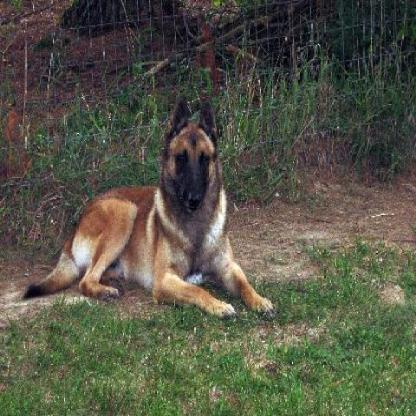malinois: (20, 88, 276, 325)
